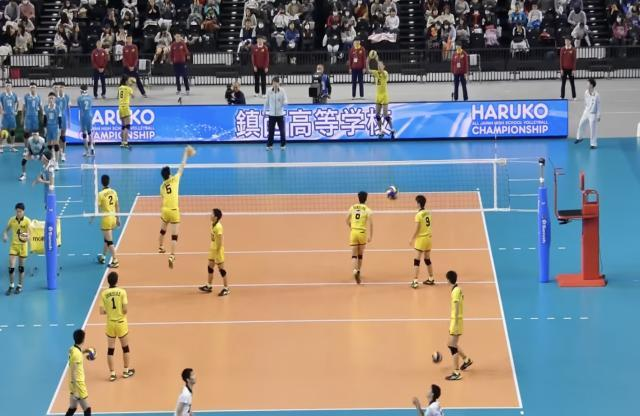spike: (154, 143, 196, 271)
